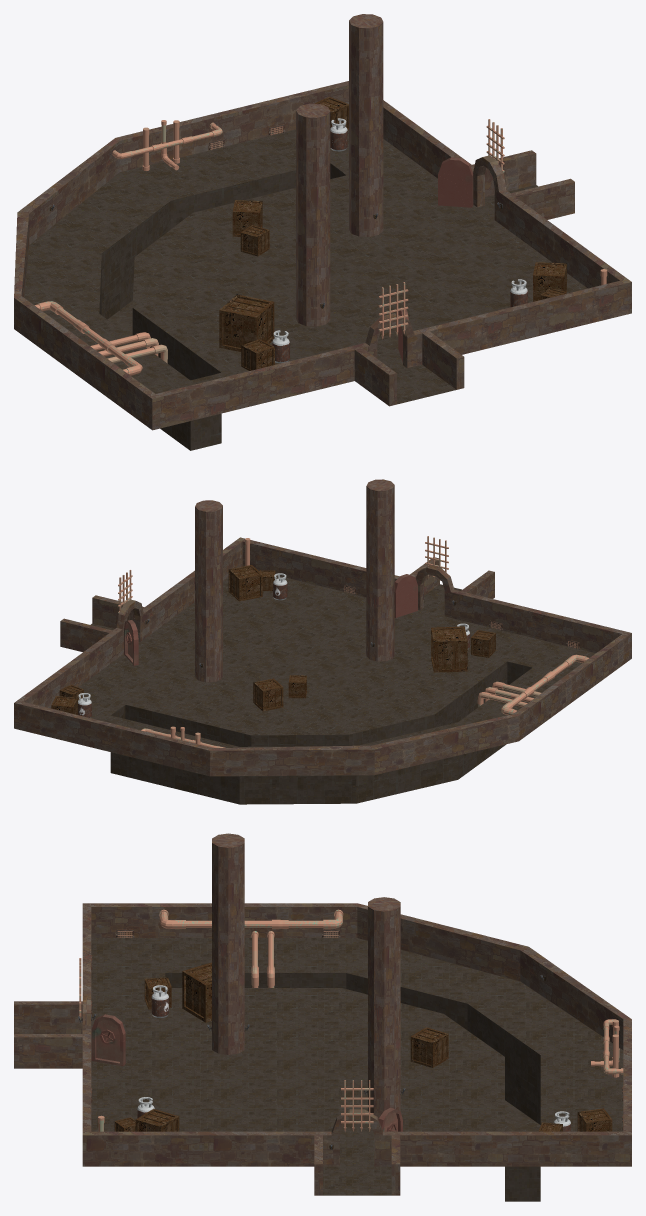
The model's file is room_base_L_pipes_40x40.glb.
3 views of the same model, one above another, from view 1: azimuth 30°, elevation 25°; view 2: azimuth 150°, elevation 25°; view 3: azimuth 270°, elevation 25° (orthographic). The views are drawn at different scales.
Parts seen in each view (by area): view 1: floor, Plane.001, floor.001, Cylinder.001, Cylinder.003, Cylinder.043, Cube.018_cell.001, gate.002, Cube.018_cell, Cylinder.044, Plane.010_cell.002; view 2: floor, Plane.001, floor.001, Cylinder.001, Cylinder.003, Cylinder.043, Cube.018_cell.002, Cube.018_cell, Cube.015_cell.004; view 3: floor, Plane.001, floor.001, Cylinder.001, Cylinder.003, Cylinder.043, gate.001, Cube.018_cell.003, Cube.018_cell.001, Cube.020_cell.004, Plane.009_cell.003.
Part boxes in pixels (x1=…): floor: x1=24, y1=129, x2=587, y2=404; Plane.001: x1=14, y1=81, x2=631, y2=430; floor.001: x1=99, y1=163, x2=345, y2=450; Cylinder.001: x1=296, y1=103, x2=330, y2=326; Cylinder.003: x1=349, y1=14, x2=383, y2=236; Cylinder.043: x1=34, y1=301, x2=142, y2=375; Cube.018_cell.001: x1=231, y1=320, x2=274, y2=351; gate.002: x1=378, y1=282, x2=408, y2=339; Cube.018_cell: x1=219, y1=294, x2=265, y2=322; Cylinder.044: x1=112, y1=122, x2=222, y2=159; Plane.010_cell.002: x1=438, y1=175, x2=465, y2=207; floor: x1=50, y1=571, x2=595, y2=747; Plane.001: x1=14, y1=537, x2=631, y2=776; floor.001: x1=110, y1=661, x2=531, y2=804; Cylinder.001: x1=366, y1=479, x2=394, y2=661; Cylinder.003: x1=195, y1=500, x2=222, y2=682; Cylinder.043: x1=501, y1=654, x2=588, y2=714; Cube.018_cell.002: x1=435, y1=643, x2=467, y2=672; Cube.018_cell: x1=431, y1=631, x2=467, y2=652; Cube.015_cell.004: x1=234, y1=569, x2=262, y2=598; floor: x1=91, y1=938, x2=623, y2=1195; Plane.001: x1=14, y1=903, x2=631, y2=1195; floor.001: x1=165, y1=973, x2=540, y2=1201; Cylinder.001: x1=212, y1=833, x2=244, y2=1054; Cylinder.003: x1=368, y1=897, x2=400, y2=1117; Cylinder.043: x1=159, y1=909, x2=343, y2=929; gate.001: x1=341, y1=1080, x2=373, y2=1131; Cube.018_cell.003: x1=182, y1=968, x2=211, y2=1014; Cube.018_cell.001: x1=182, y1=977, x2=206, y2=1022; Cube.020_cell.004: x1=578, y1=1113, x2=612, y2=1131; Plane.009_cell.003: x1=95, y1=1039, x2=125, y2=1065.
Size of the model in its own units: 36 by 17.81 by 36.
11 materials, 11 textured.
